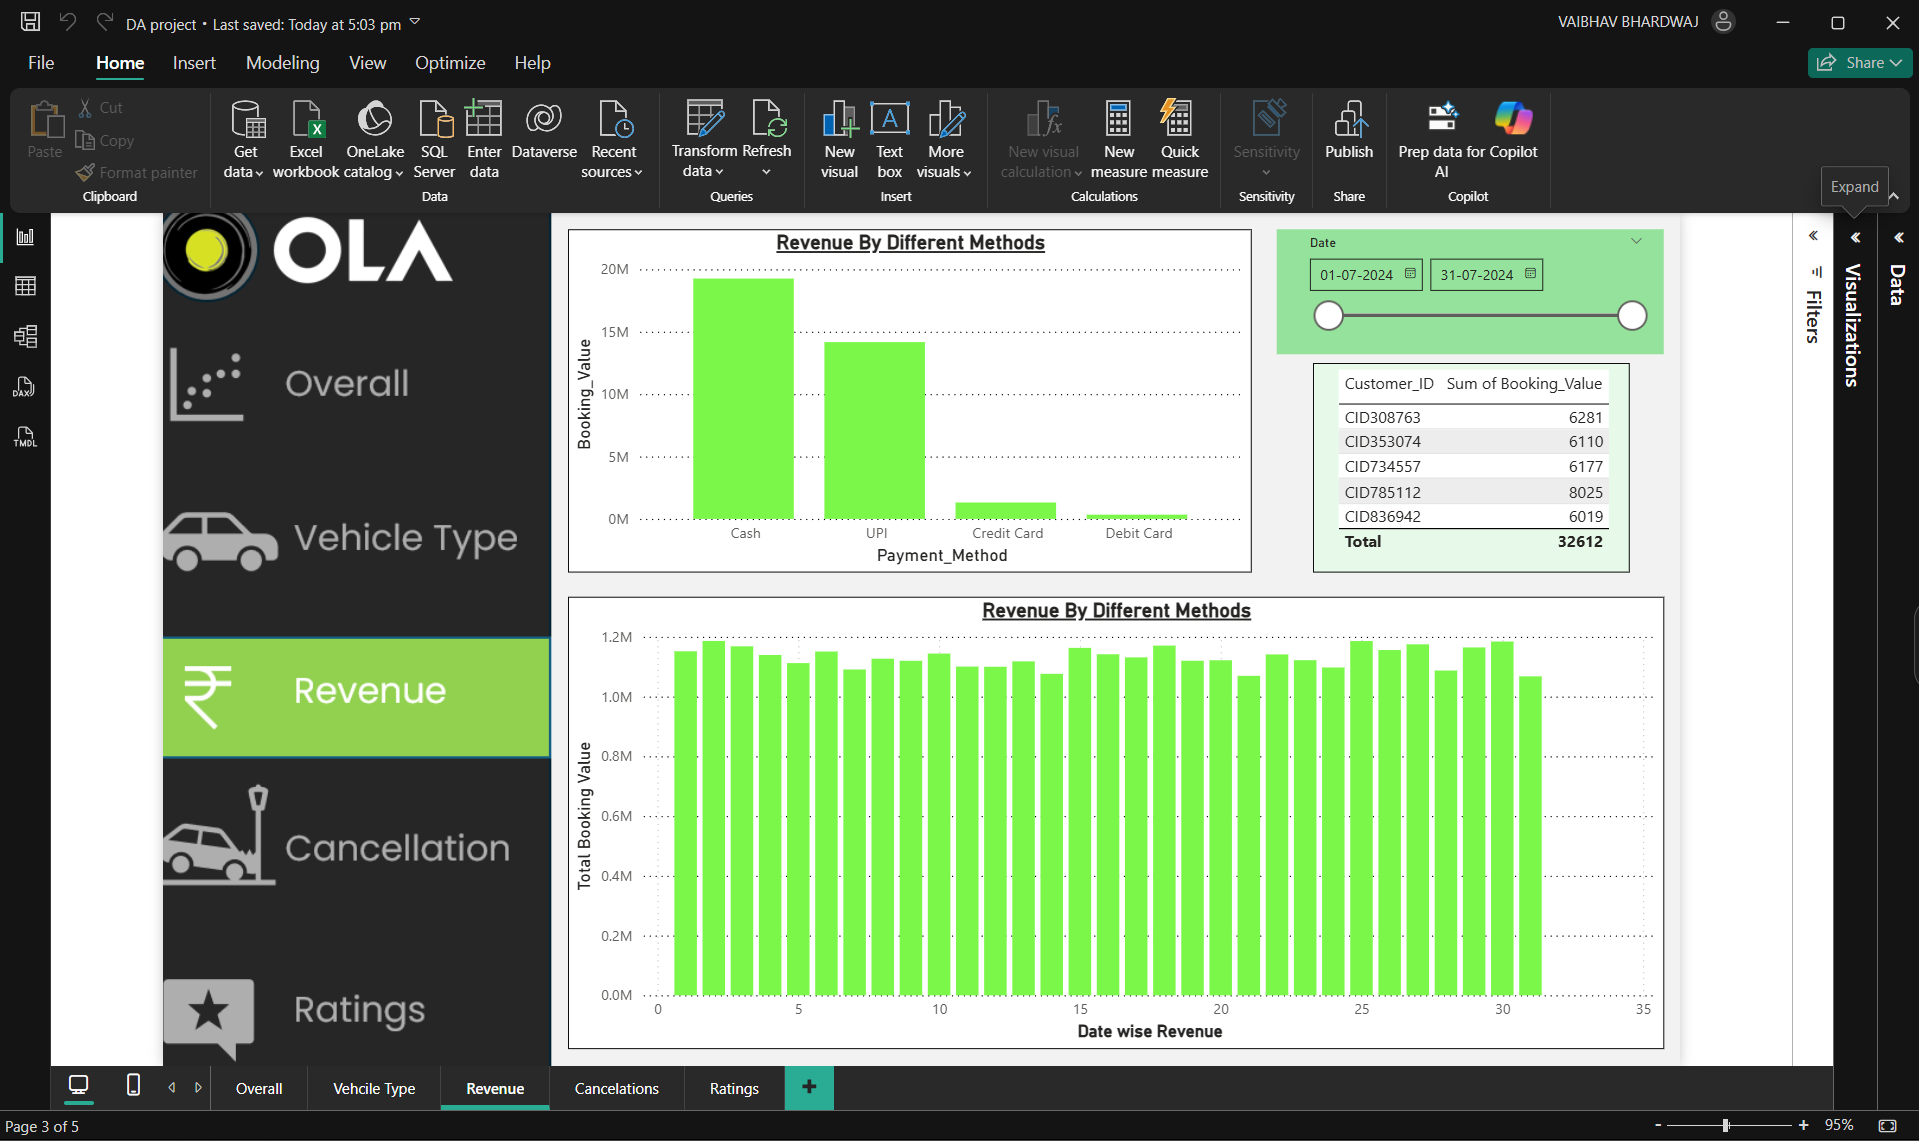

The dashboard page shown, as its layout file describes it:
{"tool":"powerbi","page":{"name":"Revenue","canvas":[1280,720],"ordinal":2},"visuals":[{"type":"actionButton","box":[0,215,328.3,126.7],"z":0},{"type":"actionButton","box":[0,341.7,328.3,116.7],"z":1000},{"type":"actionButton","box":[0,458.3,328.3,140],"z":2000},{"type":"actionButton","box":[0,598.3,328.3,121.7],"z":3000},{"type":"actionButton","box":[0,83.3,328.3,143.3],"z":4000},{"type":"columnChart","title":"Revenue By Different Methods","fields":{"Category":["July.Payment_Method"],"Y":["Sum(July.Booking_Value)"]},"box":[341.9,14,576.7,289.5],"z":5000},{"type":"slicer","fields":{"Values":["July.Date"]},"box":[939.5,14,326.7,104.7],"z":6000},{"type":"columnChart","title":"Revenue By Different Methods","fields":{"Y":["Sum(July.Booking_Value)"],"Category":["July.Date.Variation.Date Hierarchy.Day"]},"box":[341.9,323.3,924.4,381.4],"z":7000},{"type":"tableEx","fields":{"Values":["July.Customer_ID","Sum(July.Booking_Value)"]},"box":[969.8,126.7,267.4,176.7],"z":8000}]}

Visuals, with their boxes on the page's 1280x720 design canvas (x1, y1, x2, y2). These are canvas units, not pixel positions in the 1919x1141 screenshot, which may show the page scaled, cropped or inside an application window:
actionButton: bbox=[0, 215, 328, 342]
actionButton: bbox=[0, 342, 328, 458]
actionButton: bbox=[0, 458, 328, 598]
actionButton: bbox=[0, 598, 328, 720]
actionButton: bbox=[0, 83, 328, 227]
"Revenue By Different Methods" columnChart: bbox=[342, 14, 919, 304]
slicer - July.Date: bbox=[940, 14, 1266, 119]
"Revenue By Different Methods" columnChart: bbox=[342, 323, 1266, 705]
tableEx - July.Customer_ID x Sum(July.Booking_Value): bbox=[970, 127, 1237, 303]
